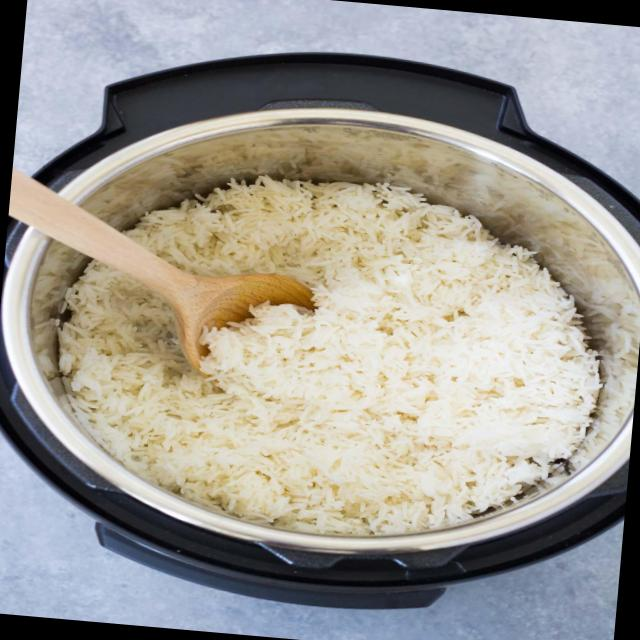rice: (65, 178, 607, 531)
